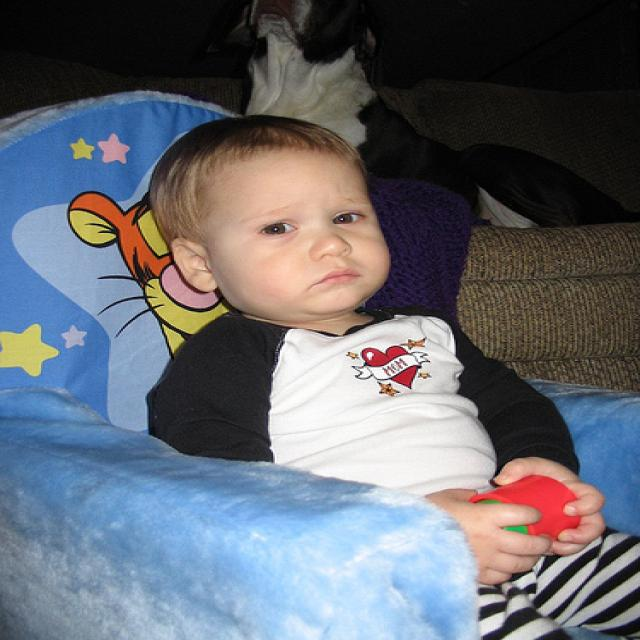chair: (1, 89, 639, 639)
dog: (235, 1, 624, 225)
person: (126, 103, 639, 640)
sofa: (1, 63, 638, 390)
